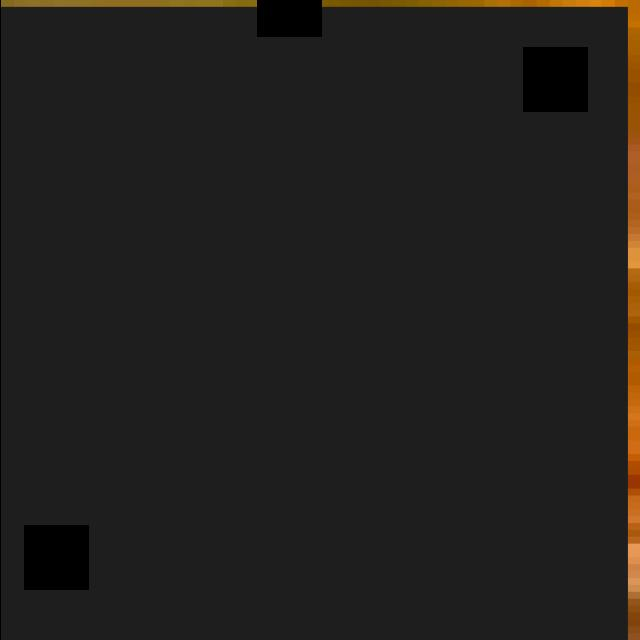fire: (0, 7, 627, 640)
